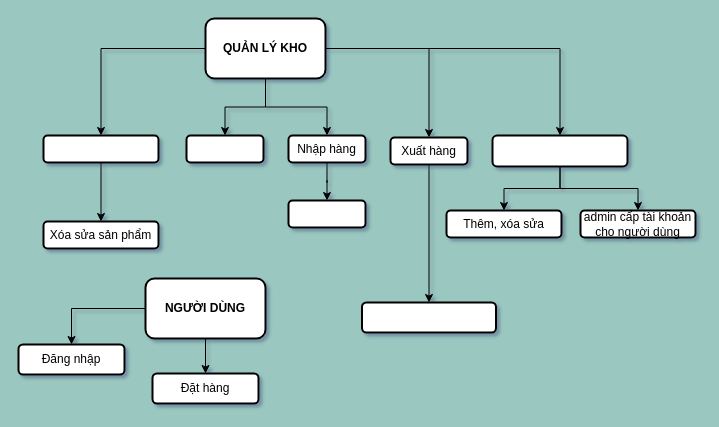
This 719x427 diagram has some shape labels left out. The centre of each missing label's shape, as x and y in pixels:
Cty nhập: the point at 326,213
Hóa đơn xuất hàng: the point at 428,317
Quản lý khách hàng: the point at 559,150
Thêm sản phẩm: the point at 100,148
Thống kê kho: the point at 224,148
